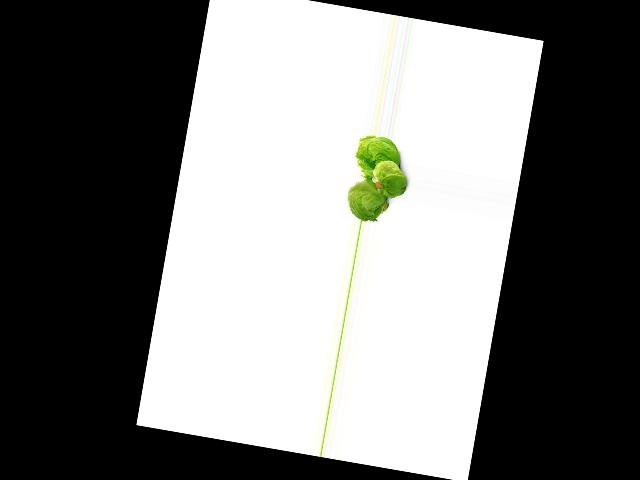lettuce: (355, 135, 400, 178)
